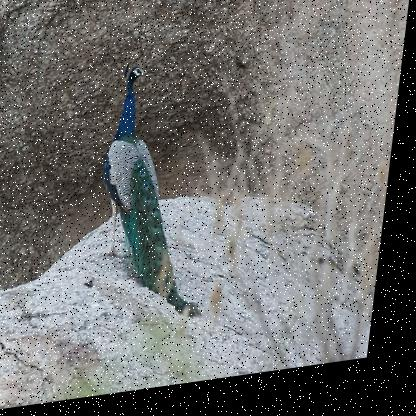Burung: (94, 53, 236, 335)
